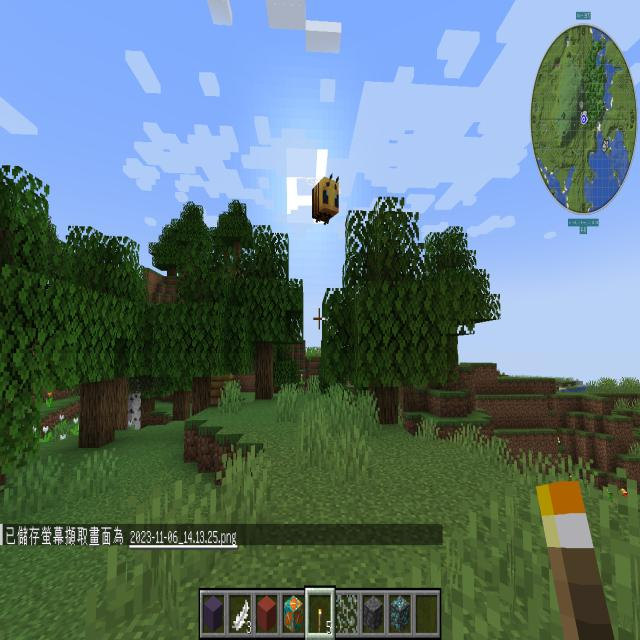bee: (305, 161, 344, 231)
